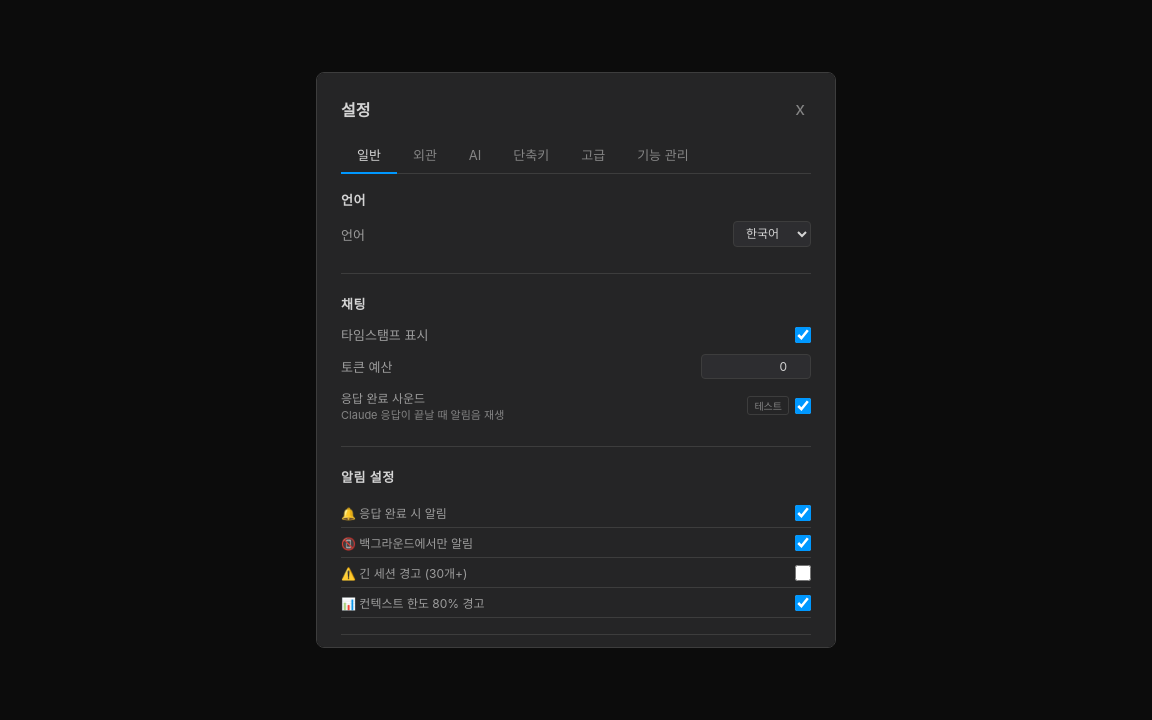
Test: SettingsPanel › 외관 탭 클릭 시 외관 설정이 표시된다
This screenshot has width=1152, height=720.
Expected: the dialog is shown, [316, 72, 836, 648]
appearance tab
Click the tab "외관". click: (425, 156)
box: [397, 137, 453, 174]
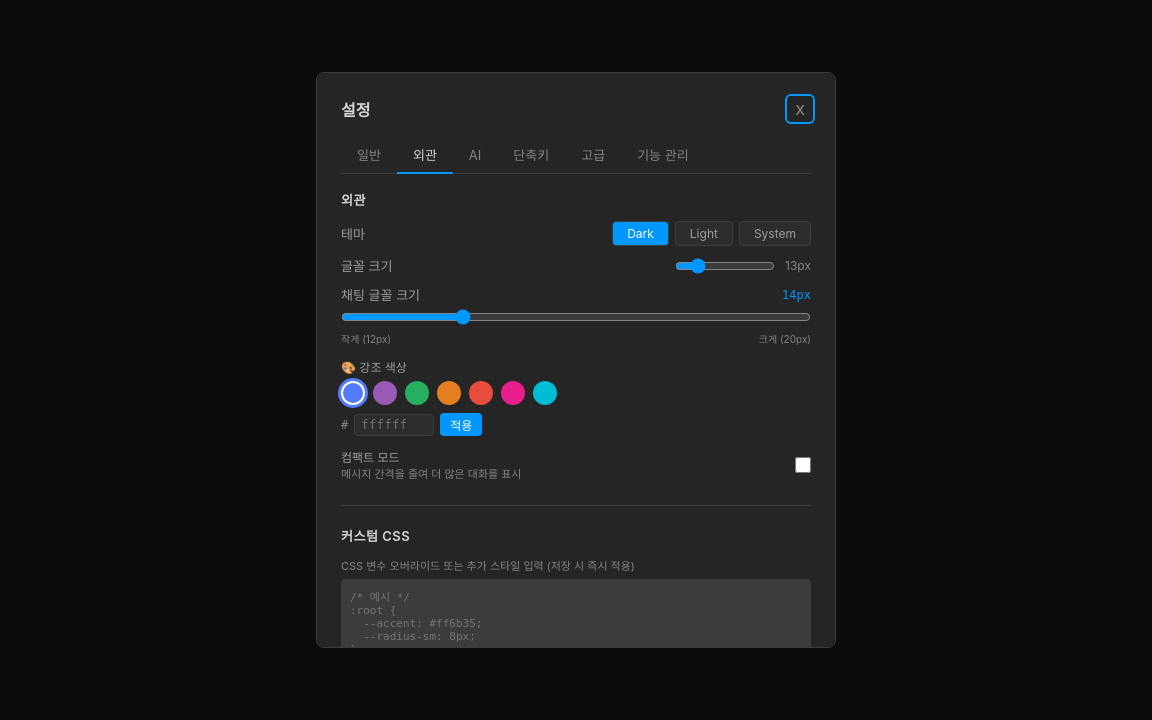
Now the text "테마" is shown, box [341, 224, 365, 243]
